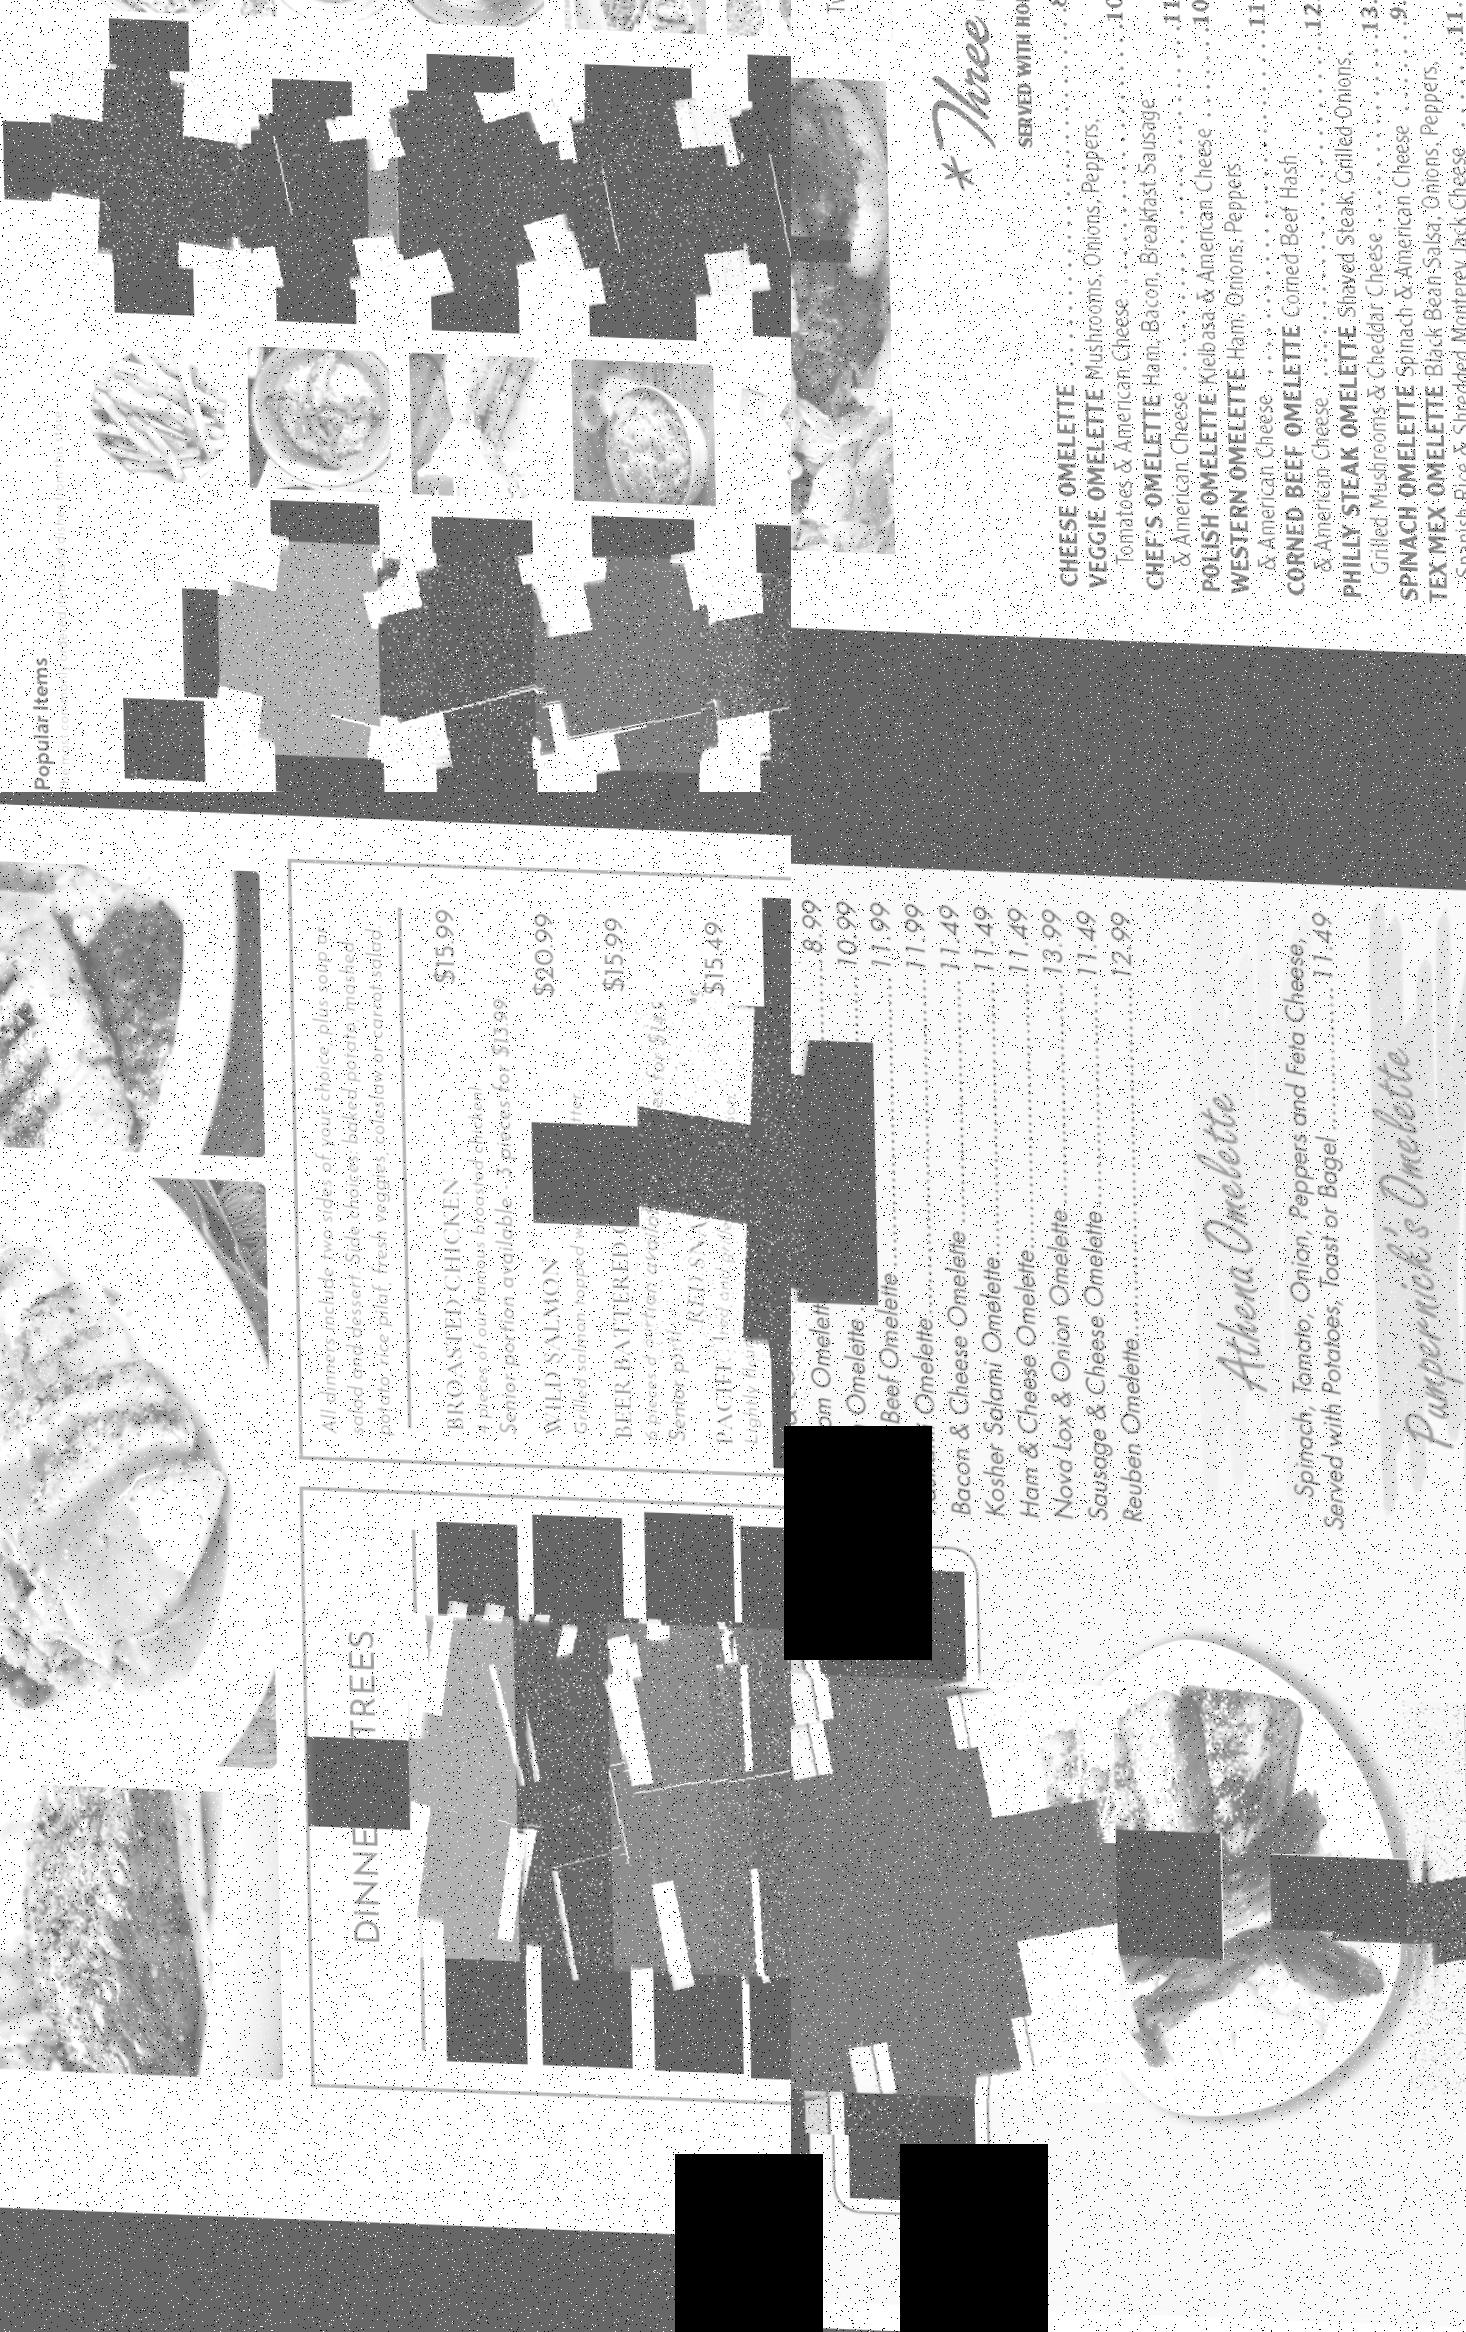Menu-Items: (790, 1663, 1115, 2097), (392, 1608, 753, 1966), (1176, 881, 1368, 1521), (498, 1603, 790, 1971), (1349, 902, 1466, 1521), (593, 1616, 790, 1977), (409, 888, 532, 1451), (790, 1614, 919, 2133), (583, 893, 696, 1447), (625, 990, 790, 1364), (1083, 871, 1172, 1535), (419, 1516, 525, 2058), (1045, 0, 1138, 606), (1194, 0, 1284, 606), (507, 885, 601, 1451), (1306, 0, 1392, 610), (525, 545, 755, 770), (208, 532, 436, 757), (1253, 0, 1336, 610), (1108, 0, 1191, 598), (368, 547, 591, 767), (681, 897, 765, 1454), (530, 91, 747, 304), (365, 84, 576, 294), (882, 871, 949, 1521), (1395, 0, 1466, 615), (46, 59, 253, 267), (919, 883, 986, 1518), (848, 897, 915, 1511), (985, 880, 1049, 1521), (1012, 0, 1078, 593), (1056, 897, 1118, 1518), (951, 883, 1010, 1525), (1162, 0, 1223, 618), (817, 897, 877, 1520), (1025, 890, 1083, 1530), (692, 1624, 790, 1979), (1366, 0, 1422, 606), (221, 108, 404, 287), (790, 895, 841, 1511), (682, 91, 790, 289), (689, 566, 790, 758), (790, 881, 807, 1520), (115, 696, 199, 778)
